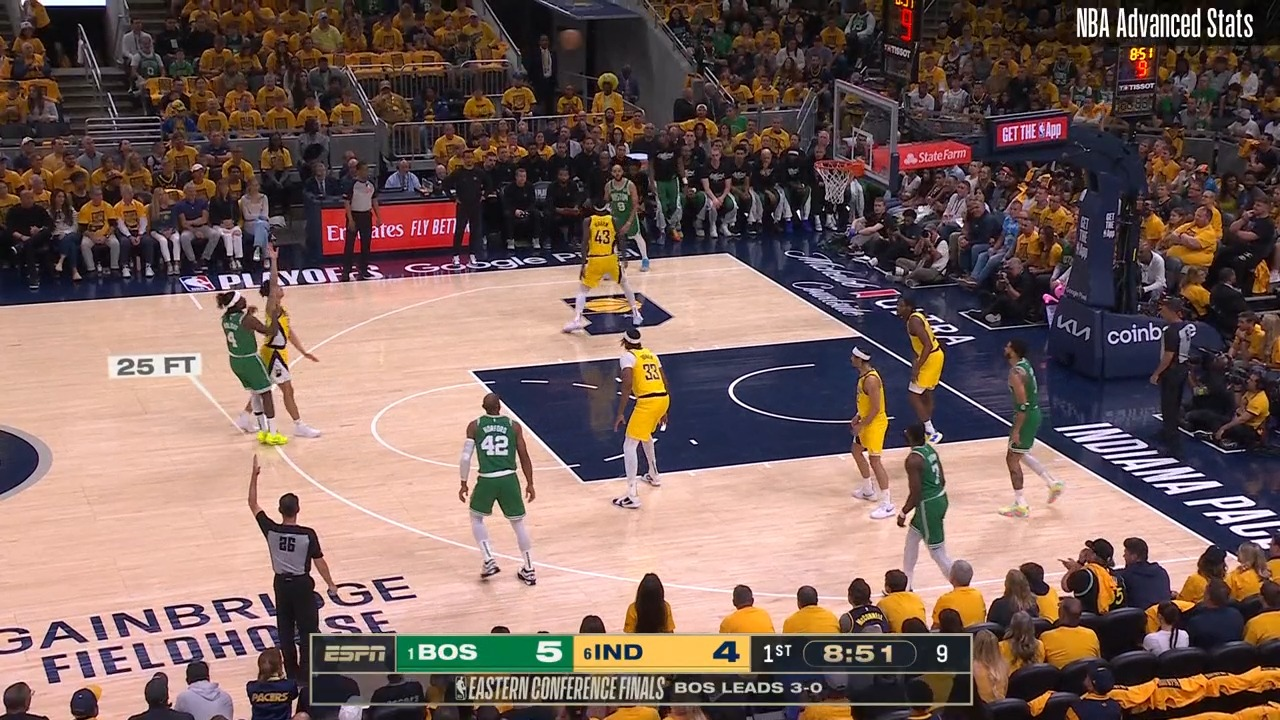basketball: (562, 27, 583, 50)
